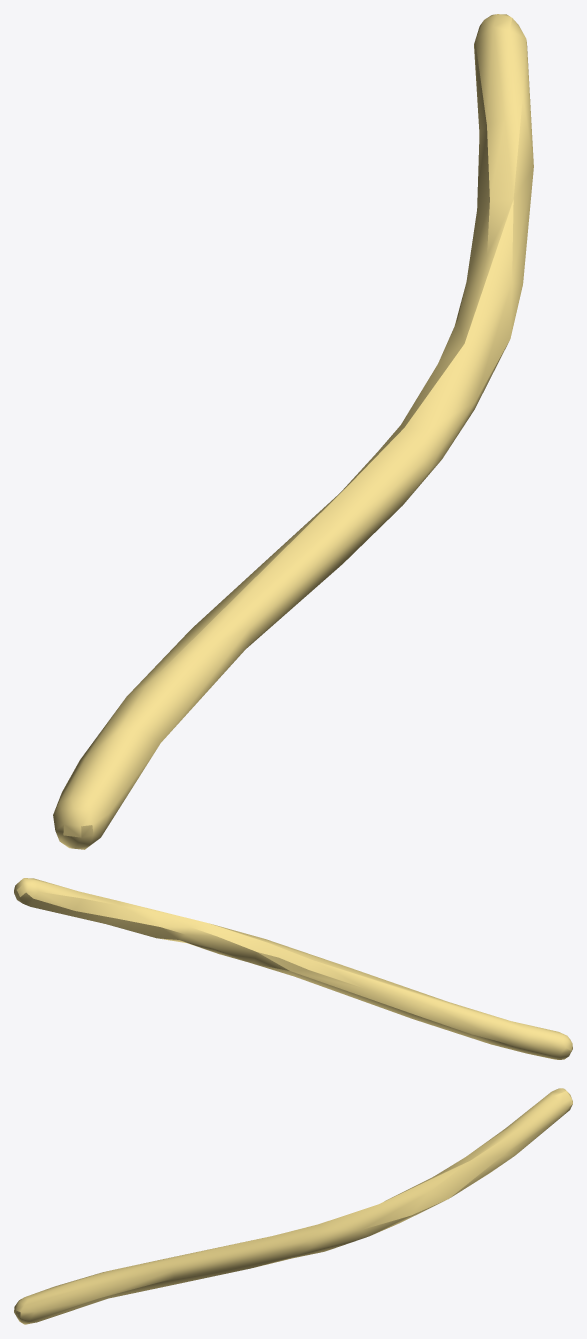
The model's file is fma52673_fj1362.glb.
3 renders of one model, top to bottom at view 1: azimuth 30°, elevation 25°; view 2: azimuth 150°, elevation 25°; view 3: azimuth 330°, elevation 25°, orthographic. The views are drawn at different scales.
Parts seen in each view (by area): view 1: FMA52673_FJ1362; view 2: FMA52673_FJ1362; view 3: FMA52673_FJ1362.
Part boxes in pixels (x1,y1,x2,y2): FMA52673_FJ1362: [53, 14, 533, 849]; FMA52673_FJ1362: [14, 878, 572, 1059]; FMA52673_FJ1362: [14, 1088, 572, 1324].
Size of the model in its own units: 0.00831 by 0.00415 by 0.00636.
